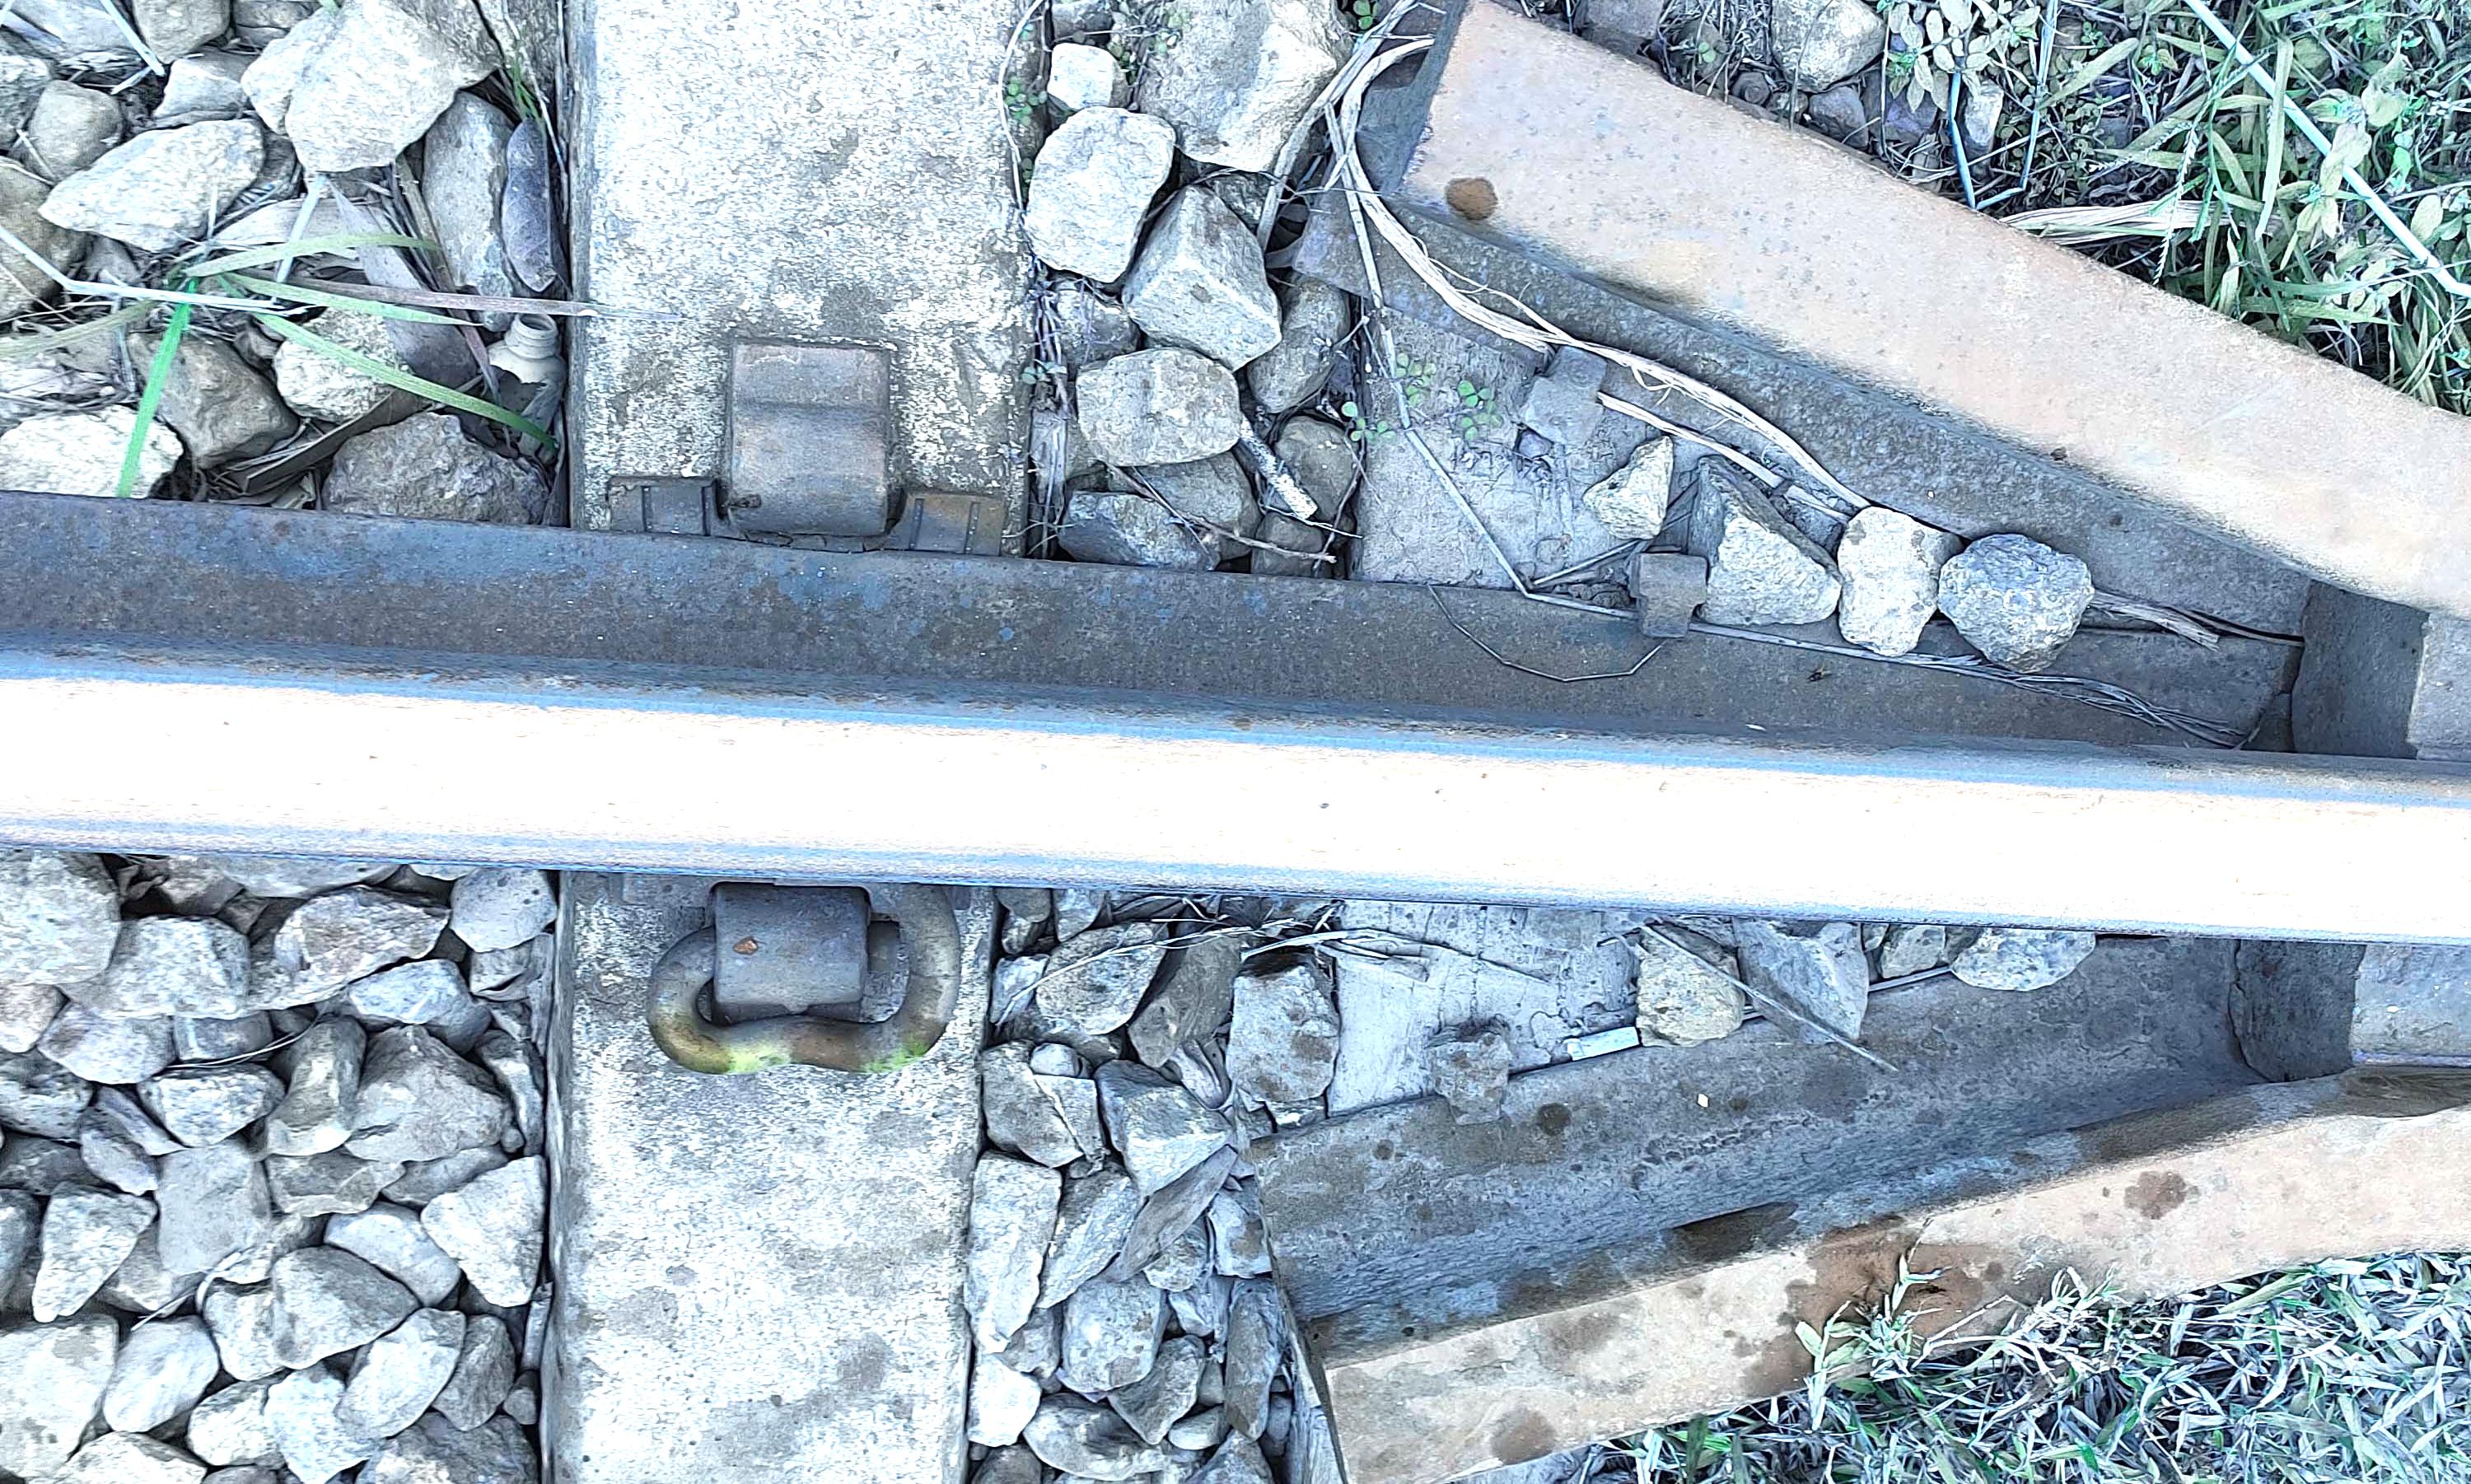error1: (644, 838, 976, 1163), (685, 325, 987, 566)
